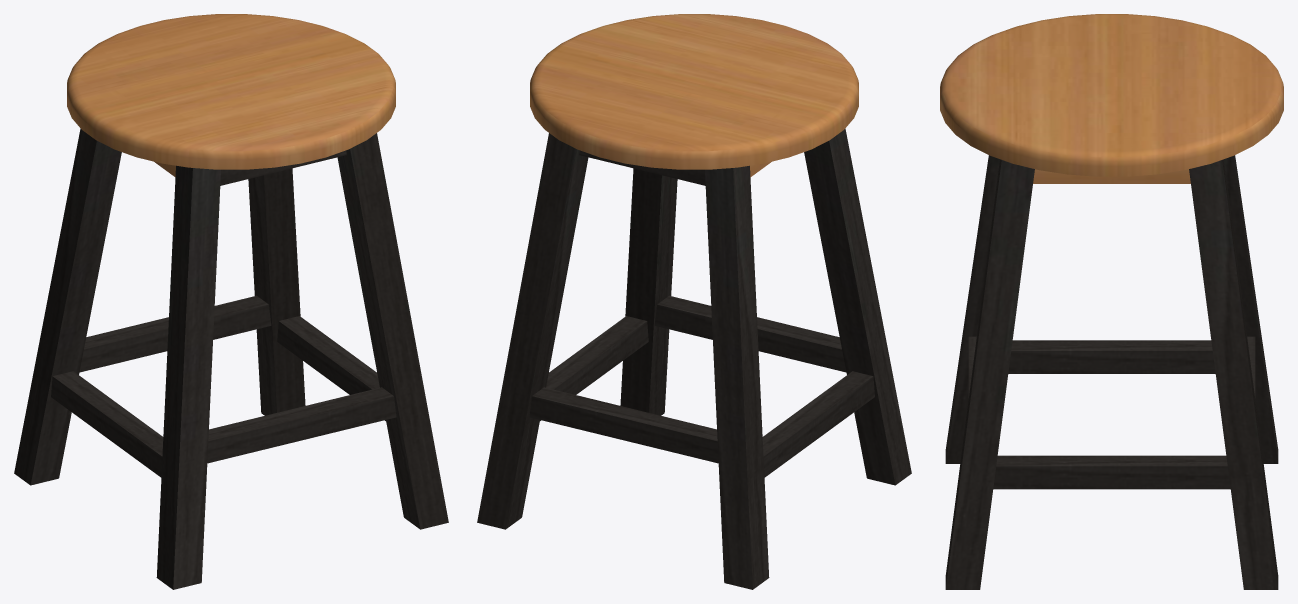
File: mw-stool_noir.fbx
The picture shows the model from 3 angles, left to right: view 1: azimuth 30°, elevation 25°; view 2: azimuth 150°, elevation 25°; view 3: azimuth 270°, elevation 25°; orthographic projection. The views are drawn at different scales.
Parts seen in each view (by area): view 1: mw-stool_noir; view 2: mw-stool_noir; view 3: mw-stool_noir.
Boxes of the visible parts, box(x1,y1,x2,y2) form: mw-stool_noir: box(14, 14, 448, 589); mw-stool_noir: box(477, 14, 911, 589); mw-stool_noir: box(940, 14, 1283, 589).
Bounding box in the file's own units: 30 × 42 × 30.
Materials: 2 (2 with a texture image).
